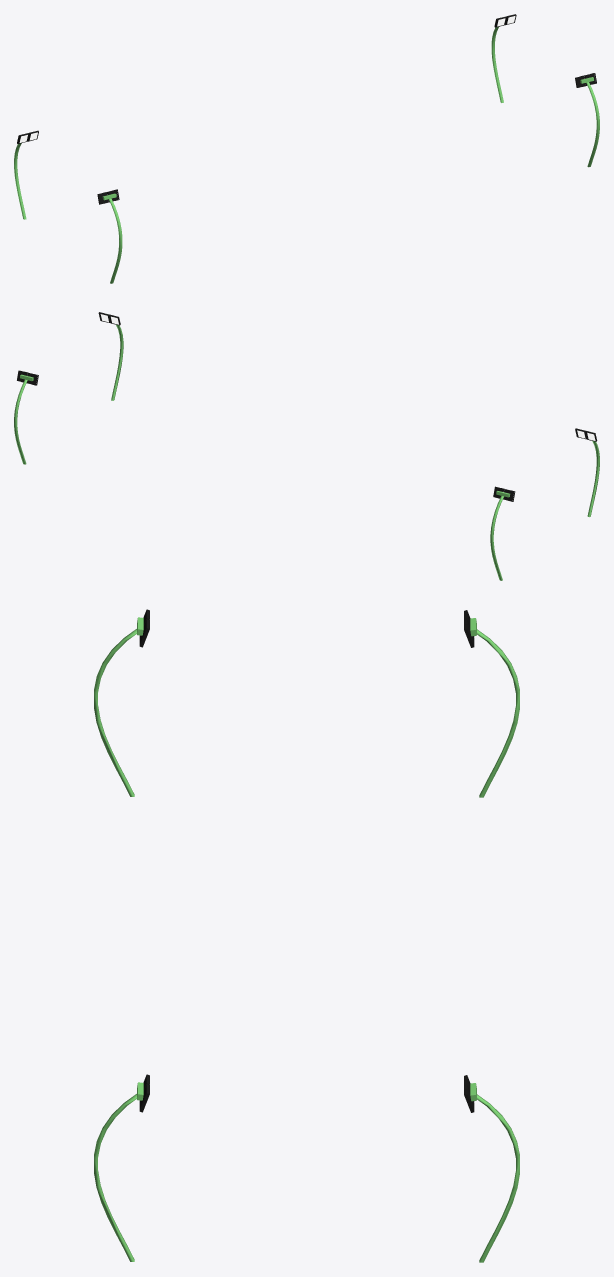
The model's file is solo_8.glb.
3 renders of one model, top to bottom at view 1: azimuth 30°, elevation 25°; view 2: azimuth 150°, elevation 25°; view 3: azimuth 270°, elevation 25°, orthographic. The views are drawn at different scales.
Parts seen in each view (by area): view 1: 8 вариант; view 2: 8 вариант; view 3: 8 вариант.
Part boxes in pixels (x1=…): 8 вариант: x1=14, y1=14, x2=599, y2=283; 8 вариант: x1=14, y1=312, x2=599, y2=580; 8 вариант: x1=94, y1=609, x2=519, y2=1262.
Size of the model in its own units: 20.17 by 3.44 by 7.49.
